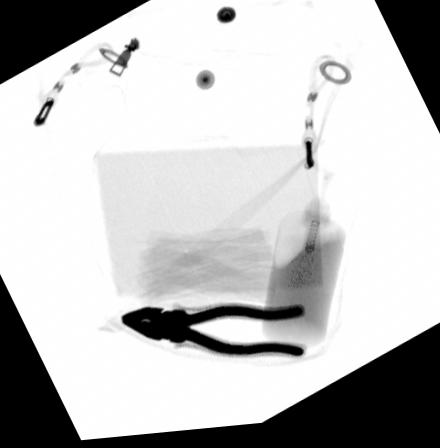Pliers: (120, 306, 308, 365)
